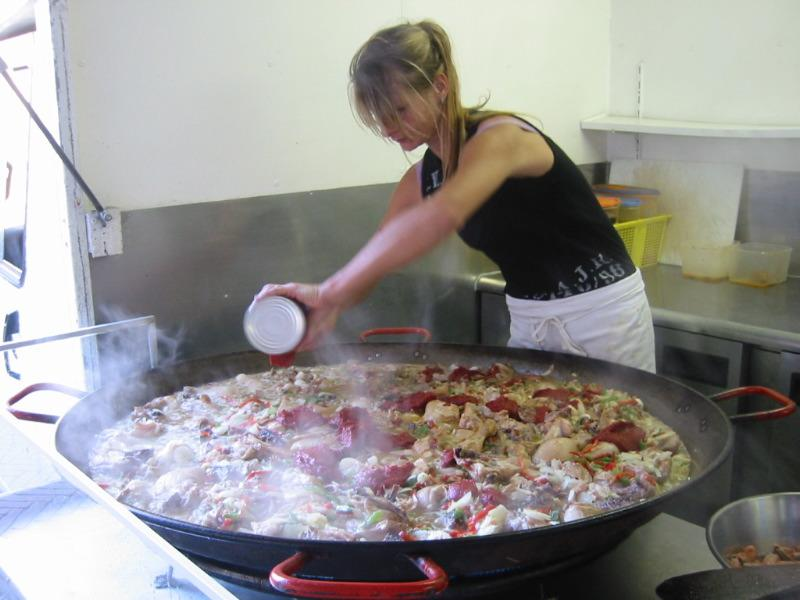person: (243, 17, 661, 380)
